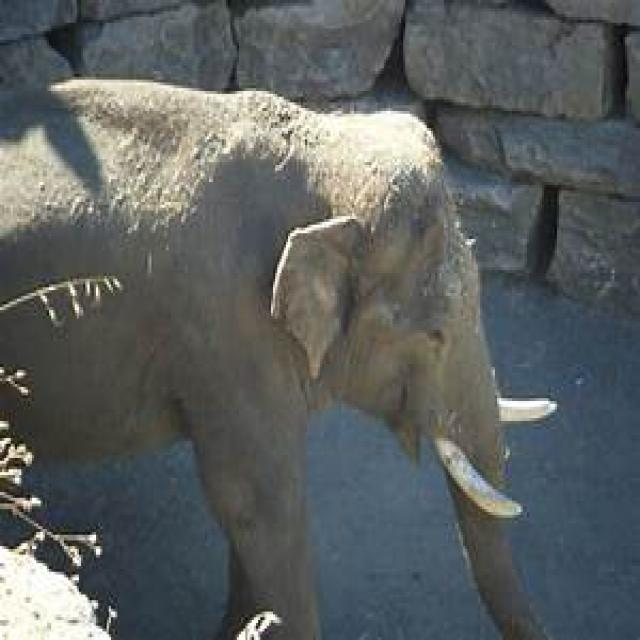elephant: (0, 80, 548, 640)
